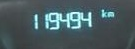1: (31, 12, 39, 30), (42, 12, 48, 29)
4: (80, 11, 92, 27), (59, 12, 69, 28)
9: (69, 10, 80, 29), (48, 11, 58, 30)
X: (100, 7, 107, 18), (107, 10, 114, 17)
